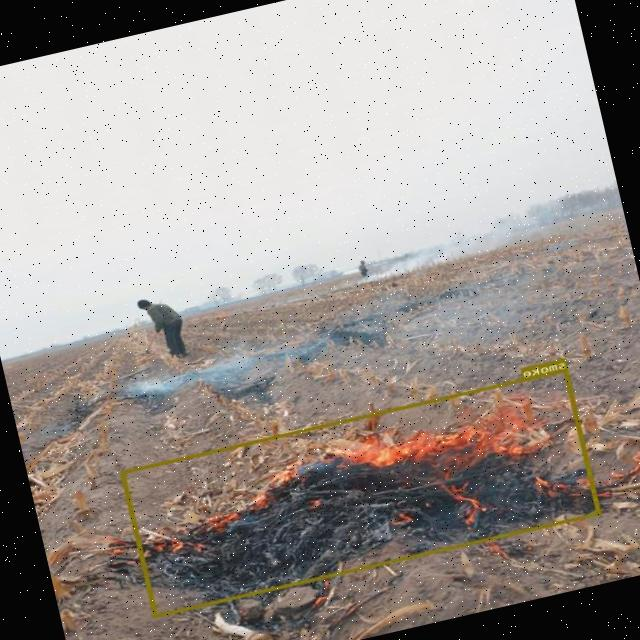smoke: (120, 367, 602, 616)
